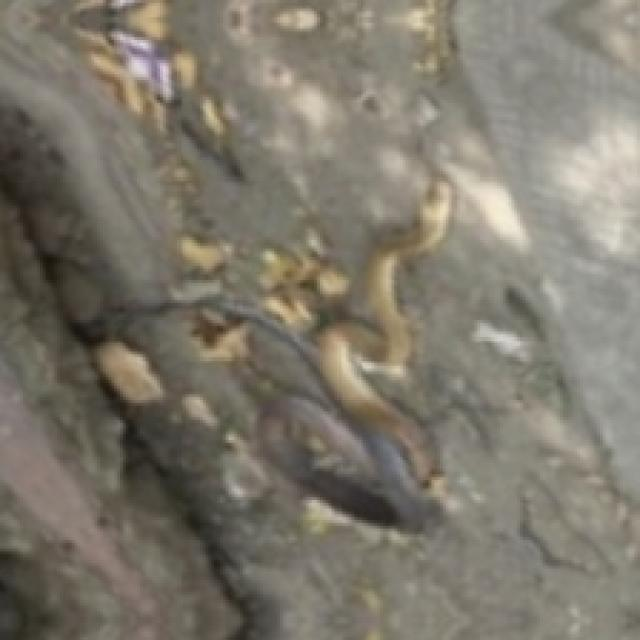reddish rat snake: (257, 174, 451, 526)
